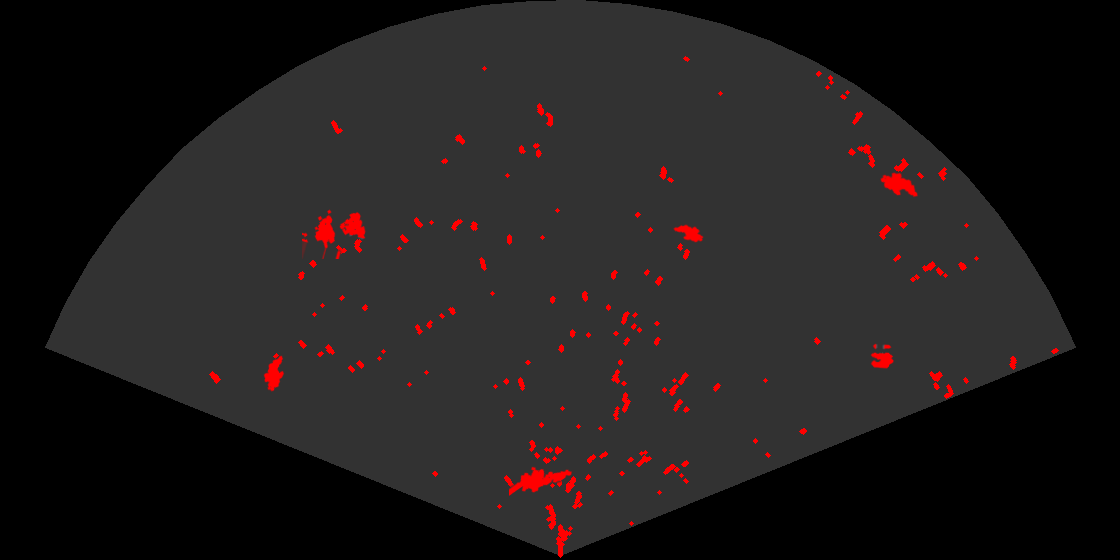AUV: (879, 171, 920, 199), (262, 354, 286, 393), (672, 223, 705, 244)
ball: (869, 342, 895, 370)
cage: (302, 208, 367, 259)
frogman: (509, 465, 574, 497)
